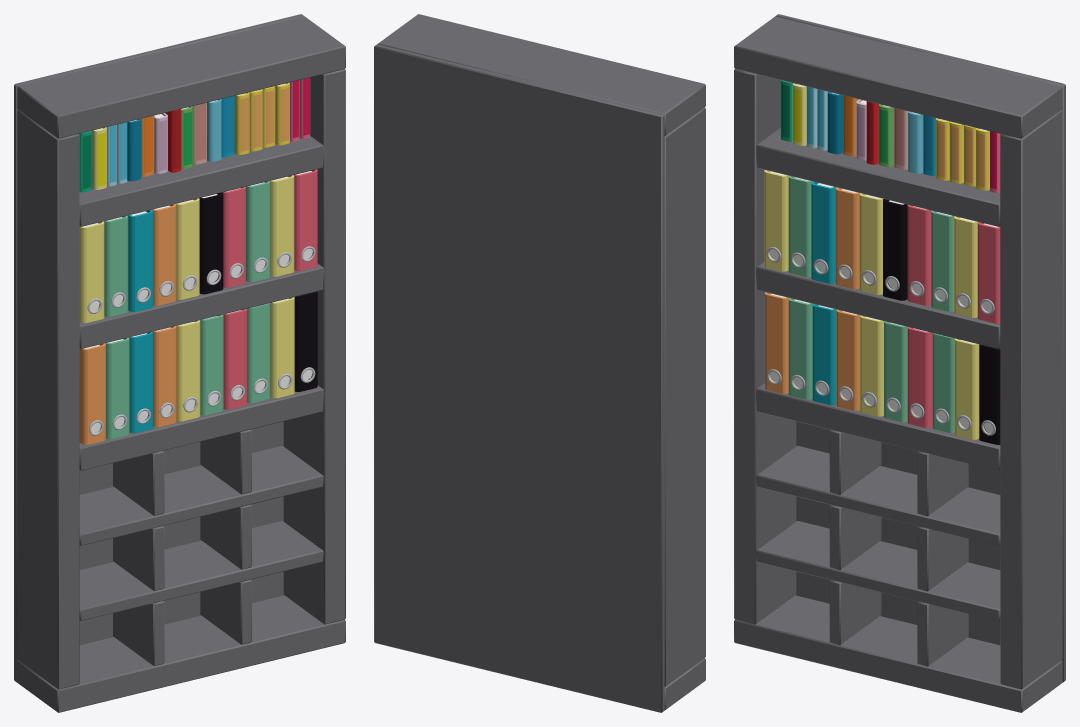
Rendered from Shelving_4.fbx.
3 views of the same model, side by side, from view 1: azimuth 30°, elevation 25°; view 2: azimuth 150°, elevation 25°; view 3: azimuth 330°, elevation 25° (orthographic).
Parts seen in each view (by area): view 1: Shelving_4; view 2: Shelving_4; view 3: Shelving_4.
Boxes of the visible parts, x1,y1,x2,y2 form: Shelving_4: (14,14,345,712); Shelving_4: (374,14,705,712); Shelving_4: (734,14,1065,712).
Size of the model in its own units: 1.1 by 2.17 by 0.2939.
